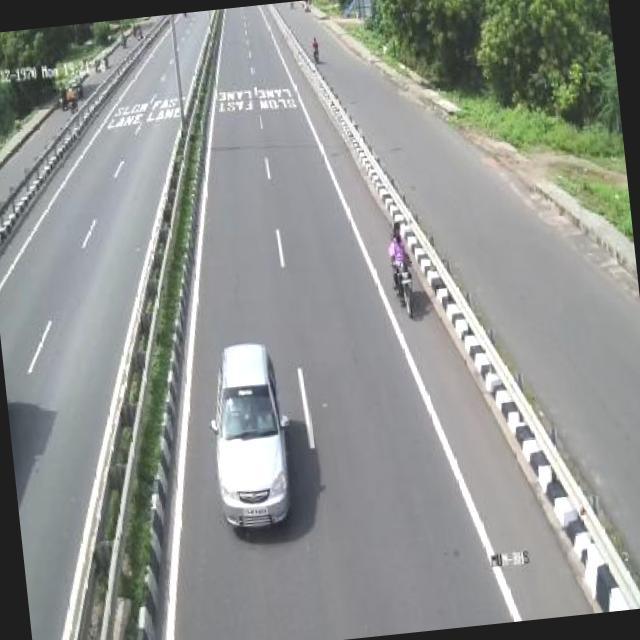car: (202, 332, 302, 538)
